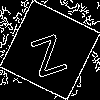Z: (25, 25, 69, 78)
